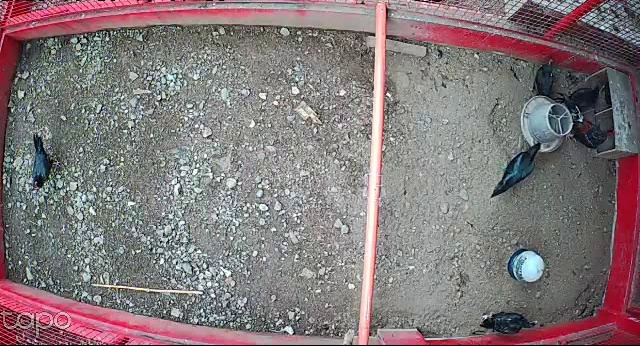Chicken: (489, 140, 543, 200), (24, 131, 64, 192), (476, 310, 542, 335), (551, 82, 601, 112), (527, 56, 555, 98)
Drinker: (506, 249, 547, 284)
Feeder: (518, 94, 573, 153)
Rooster: (552, 89, 617, 150)
